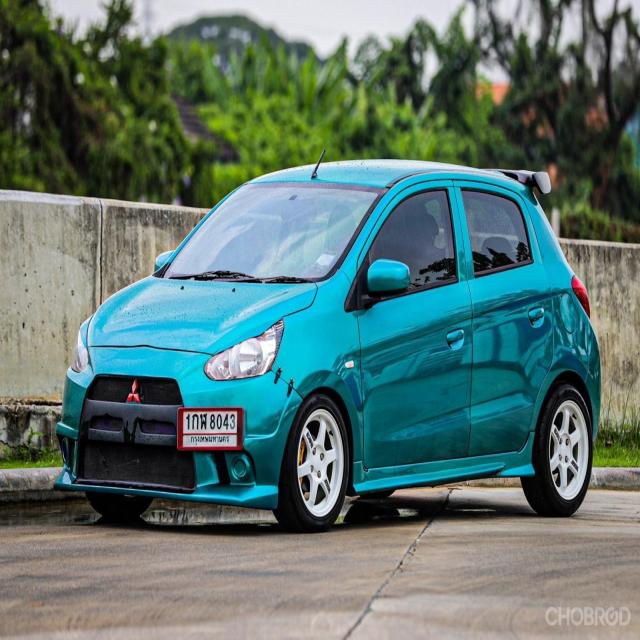license_plate: (177, 409, 242, 451)
